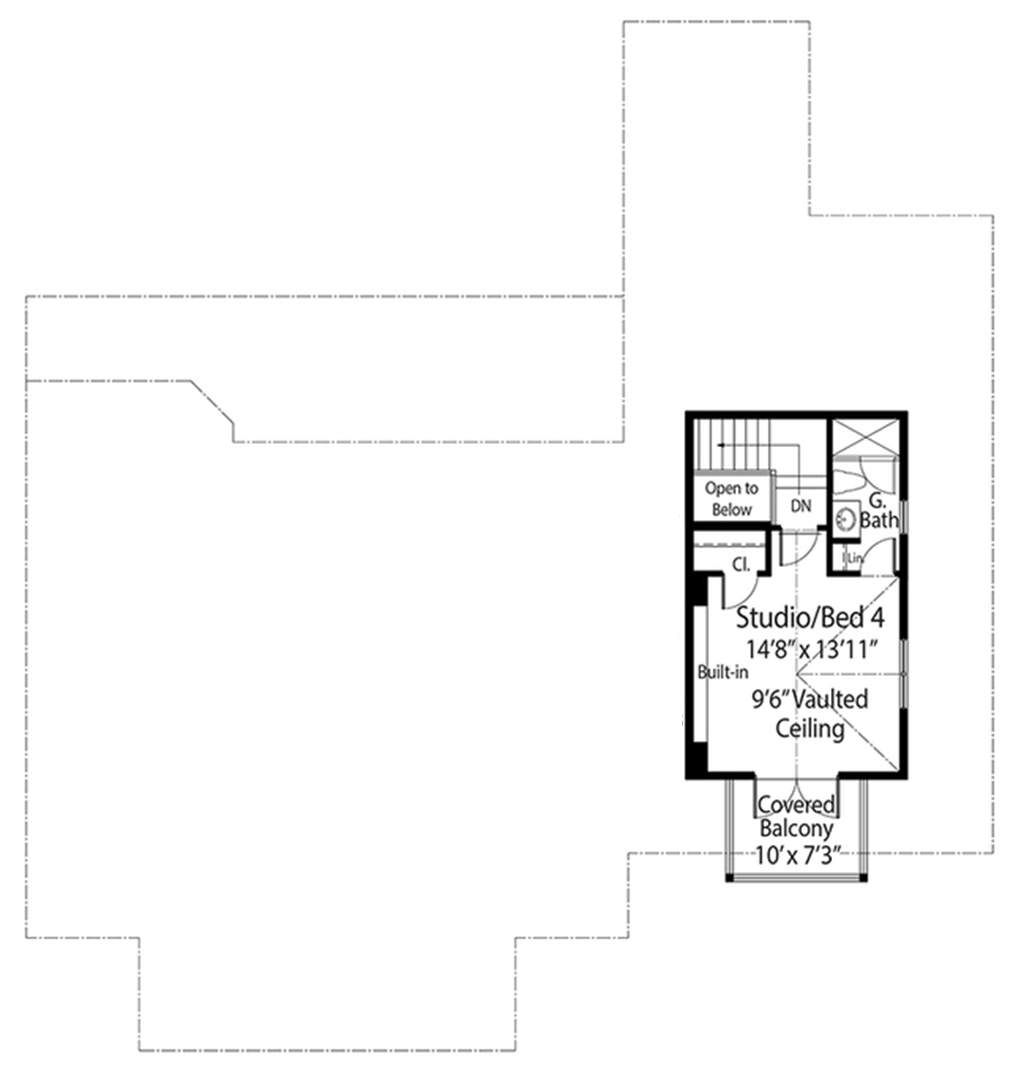door: (749, 772, 846, 826), (858, 452, 898, 498), (778, 524, 817, 571), (720, 569, 767, 606)
large_sink: (854, 533, 898, 583), (825, 466, 874, 499)
stairs: (691, 415, 828, 525)
windows: (891, 637, 914, 712)
